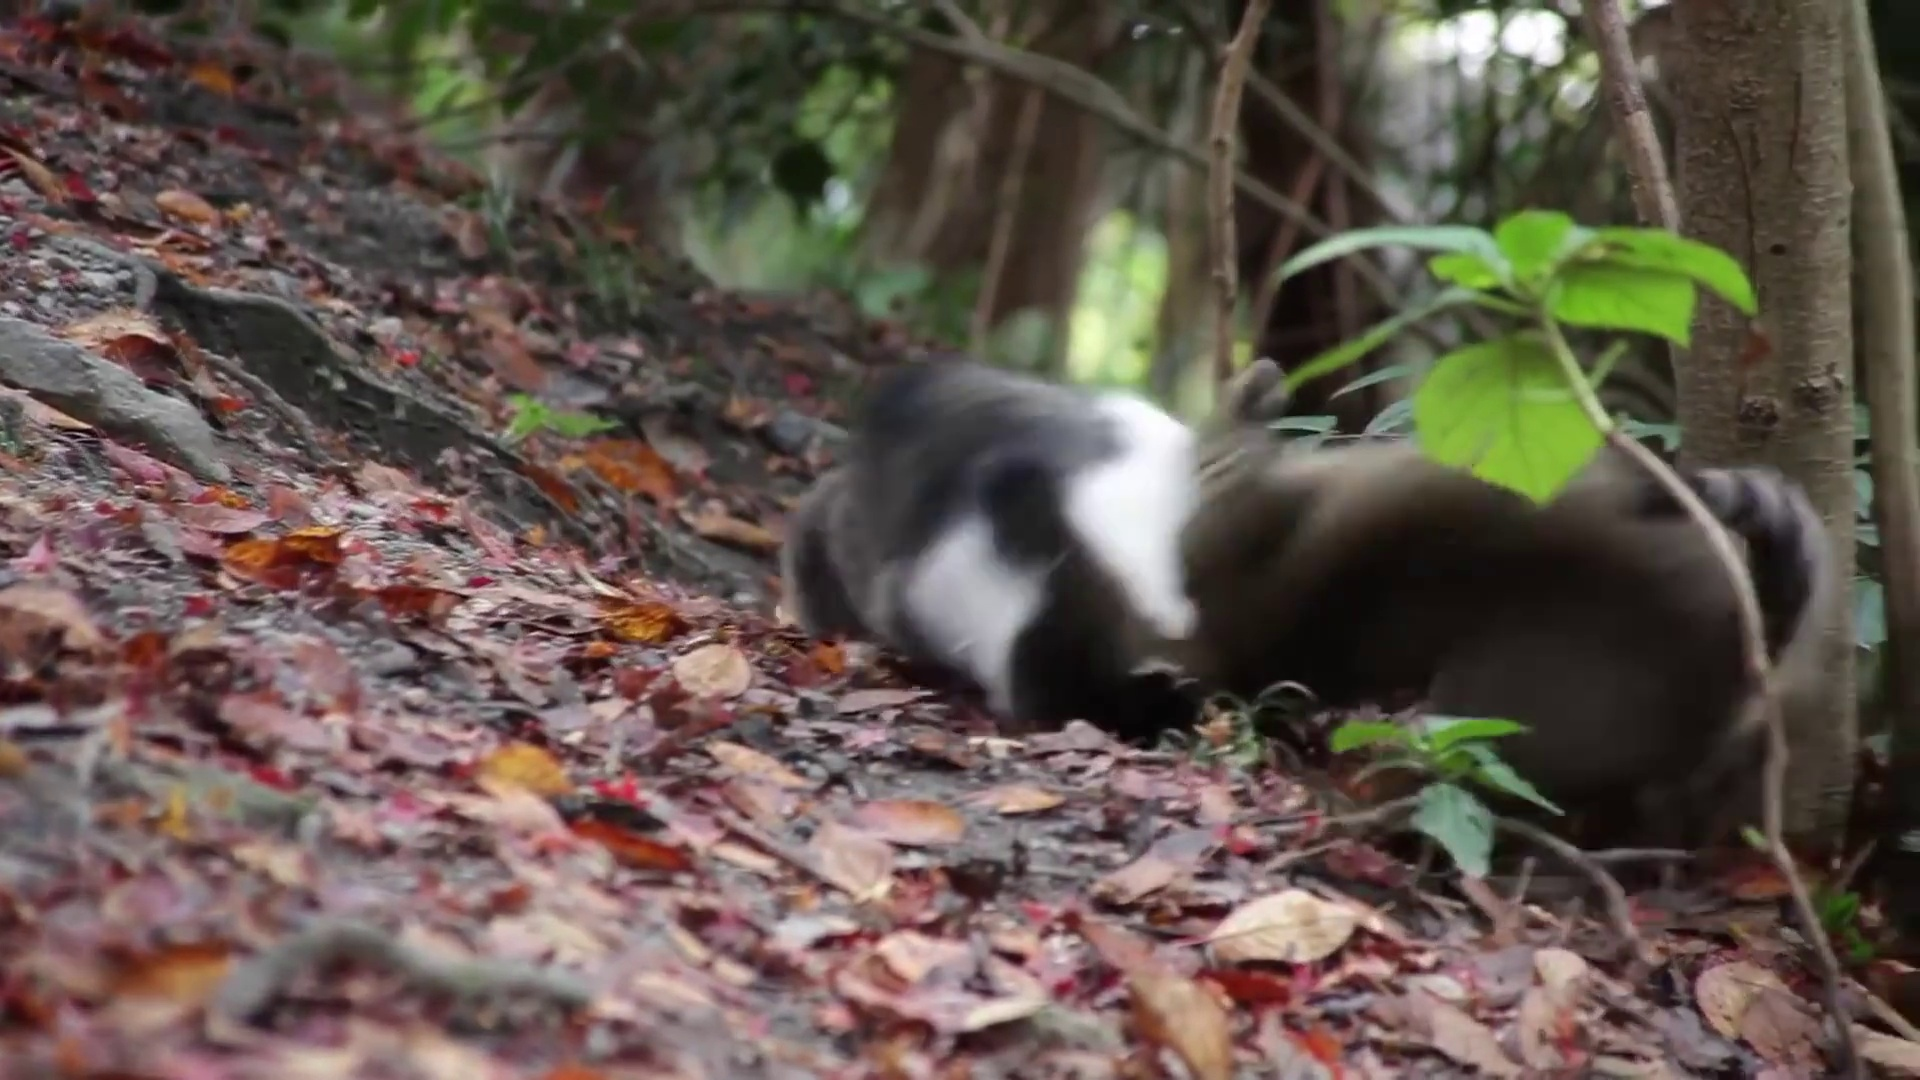black-white: (783, 363, 1209, 725)
pure black: (1184, 355, 1818, 806)
